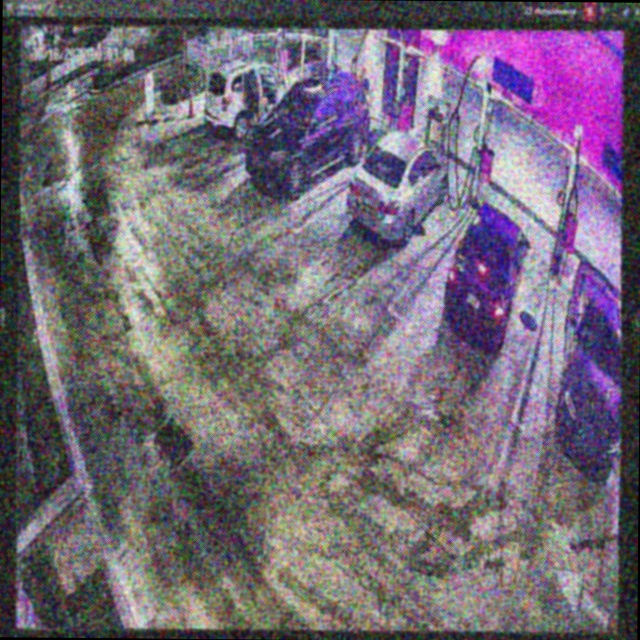Car: (246, 70, 370, 202), (444, 199, 530, 350), (347, 133, 449, 244)
